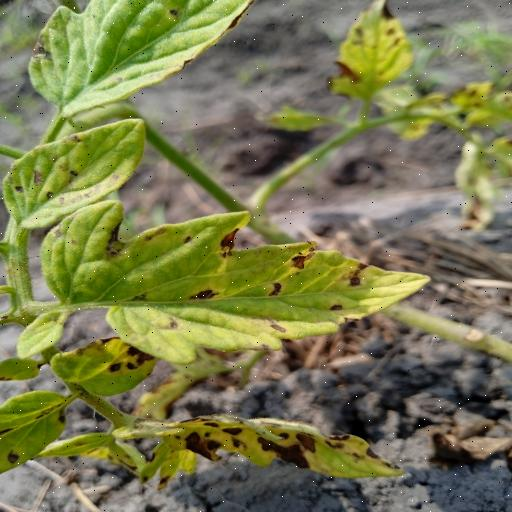Tomato_Brown_Spots: (14, 199, 442, 363), (24, 0, 256, 121), (50, 410, 418, 486), (0, 114, 151, 236), (0, 386, 73, 476)
